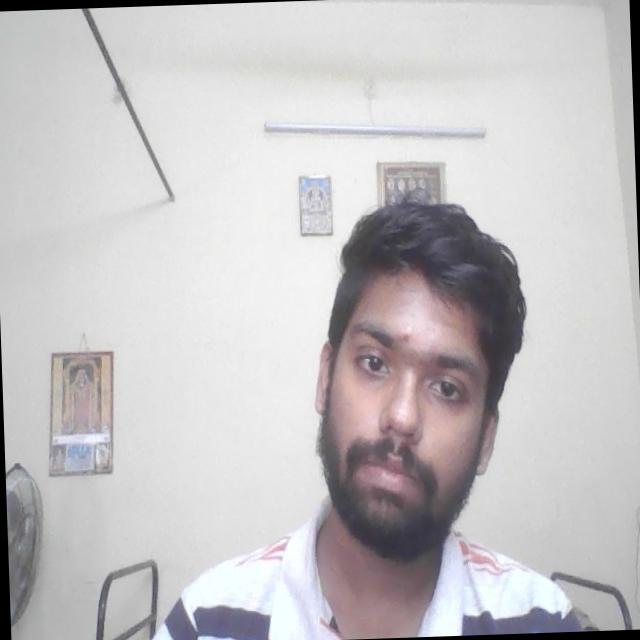Focused: (312, 296, 502, 532)
